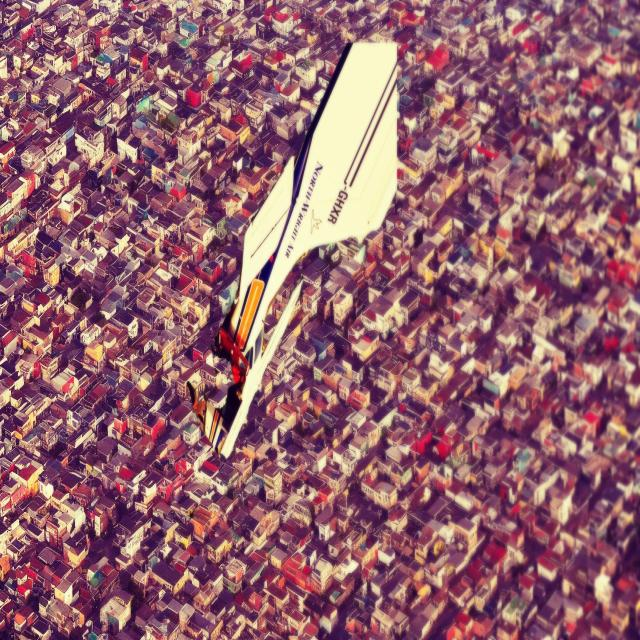airplane: (202, 39, 400, 460)
